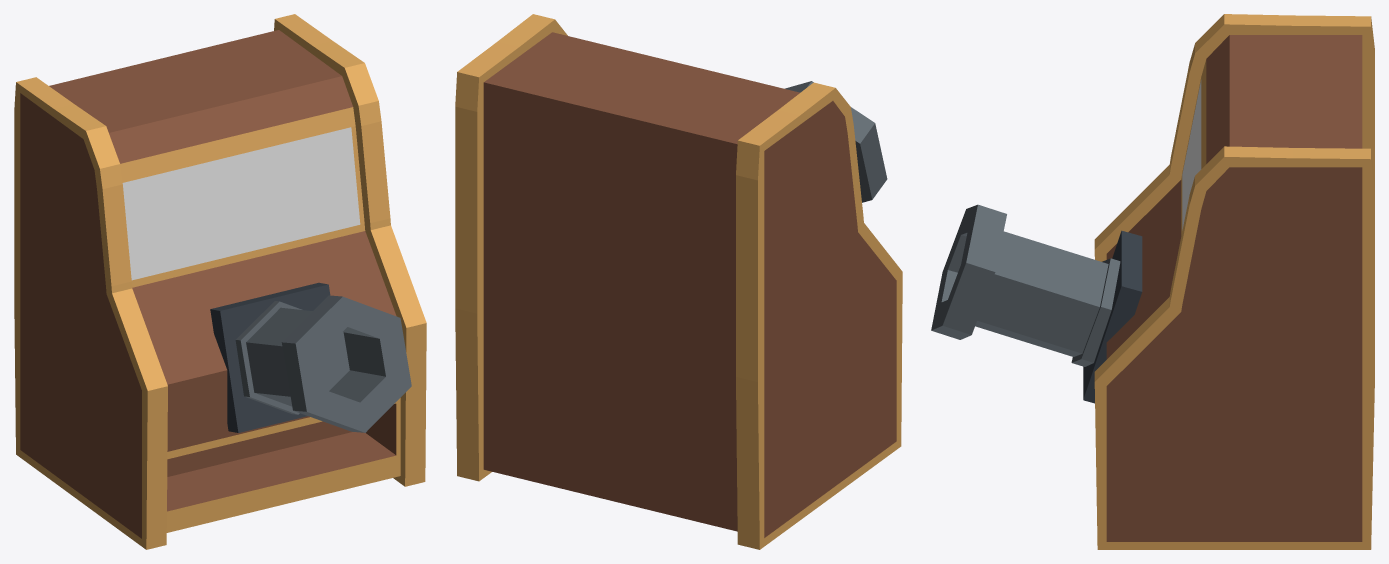
Rendered from RangedV0.2.fbx.
3 renders of one model, left to right at view 1: azimuth 30°, elevation 25°; view 2: azimuth 150°, elevation 25°; view 3: azimuth 270°, elevation 25°, orthographic. The views are drawn at different scales.
Visible parts, largest first — view 1: Body.001, Canon.001; view 2: Body.001, Canon.001; view 3: Body.001, Canon.001.
Boxes of the visible parts, x1=… form: Body.001: x1=14, y1=14, x2=426, y2=549; Canon.001: x1=210, y1=282, x2=411, y2=432; Body.001: x1=455, y1=14, x2=902, y2=549; Canon.001: x1=785, y1=81, x2=887, y2=202; Body.001: x1=1094, y1=14, x2=1374, y2=549; Canon.001: x1=931, y1=204, x2=1142, y2=403.
Size of the model in its own units: 0.8812 by 1.16 by 1.13.
